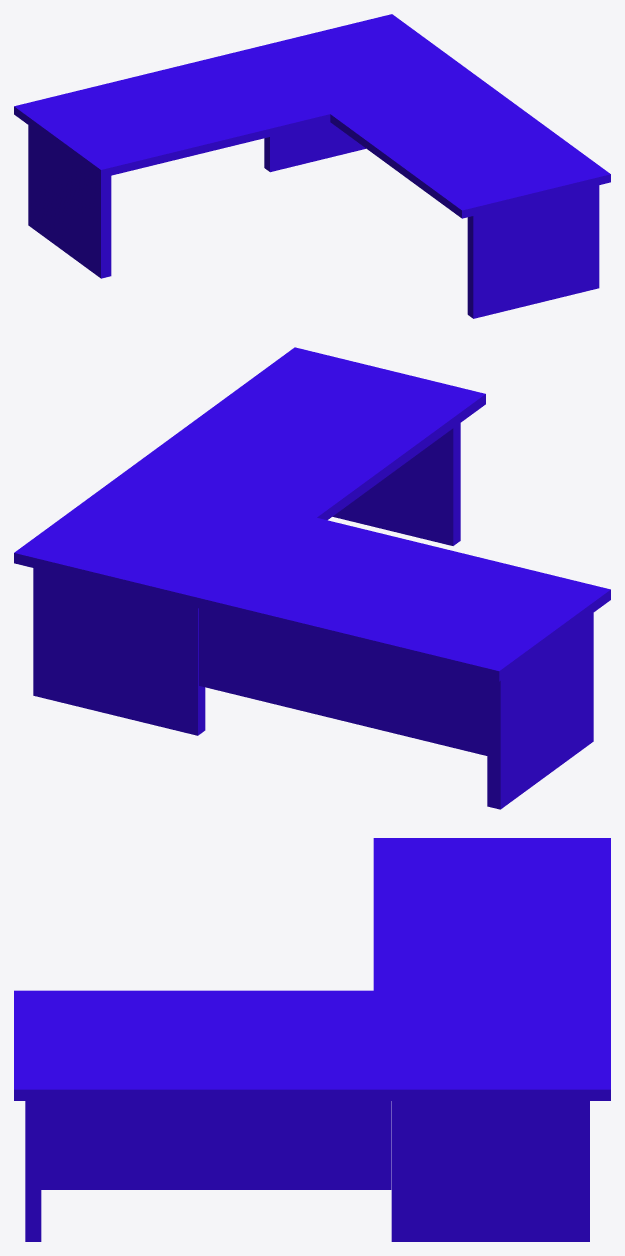
The model's file is office_pack_table_L_large_1_meshCollider.fbx.
3 views of the same model, one above another, from view 1: azimuth 30°, elevation 25°; view 2: azimuth 150°, elevation 25°; view 3: azimuth 270°, elevation 25° (orthographic). The views are drawn at different scales.
Parts seen in each view (by area): view 1: office_pack_table_L_large_1_meshCollider; view 2: office_pack_table_L_large_1_meshCollider; view 3: office_pack_table_L_large_1_meshCollider.
Boxes of the visible parts, <box> form: office_pack_table_L_large_1_meshCollider: <box>14,14,610,318</box>; office_pack_table_L_large_1_meshCollider: <box>14,347,610,809</box>; office_pack_table_L_large_1_meshCollider: <box>14,838,610,1241</box>.
Bounding box in the file's own units: 151 × 43.84 × 151.
